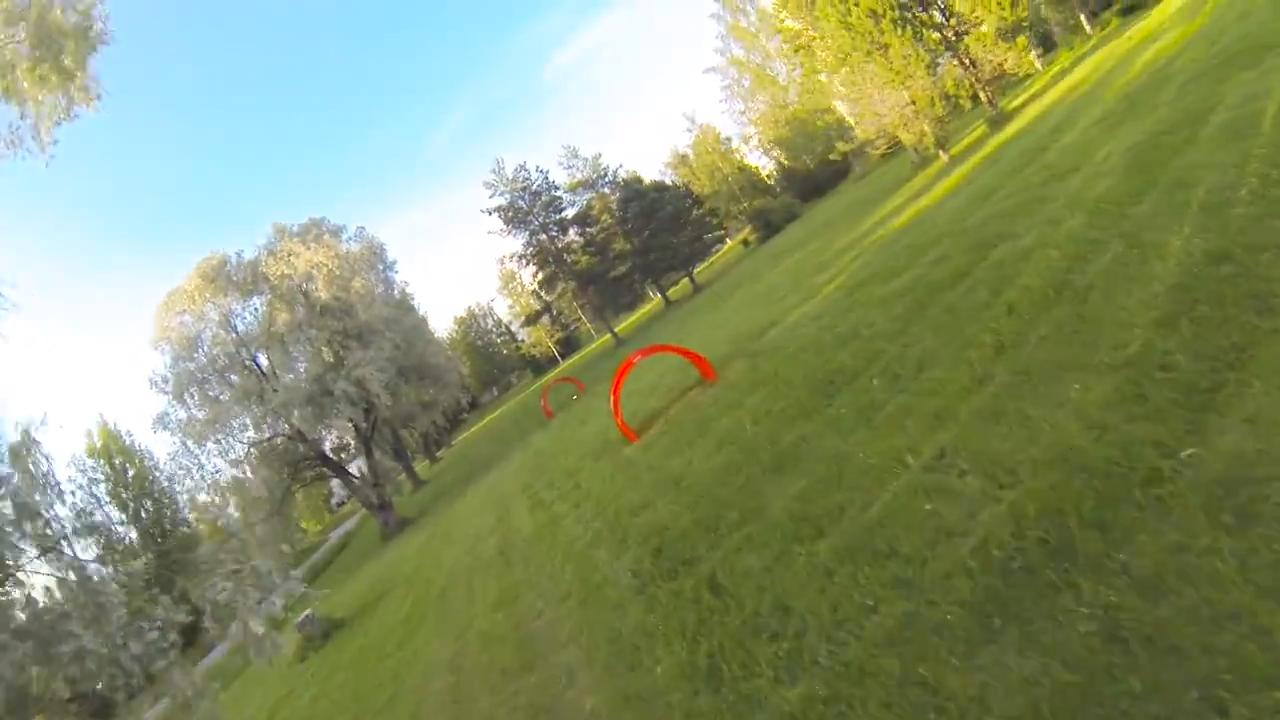gate: (607, 337, 720, 442)
